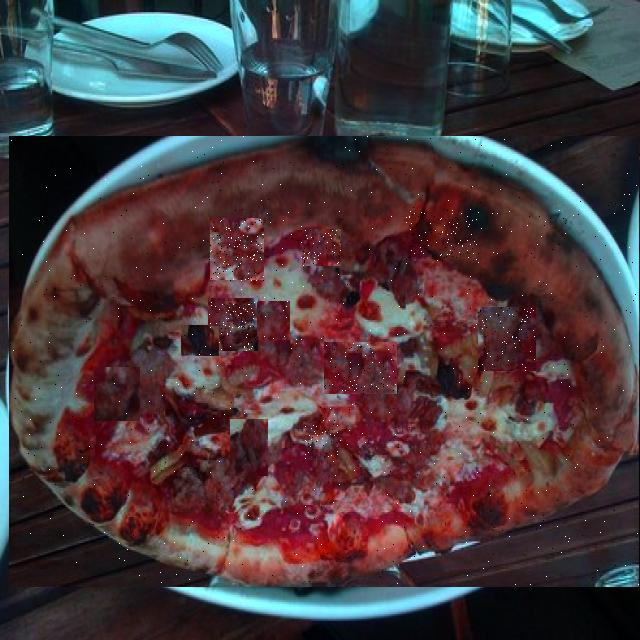Beef: (324, 343, 397, 394), (406, 209, 477, 261), (478, 308, 536, 371), (210, 220, 264, 282), (208, 299, 258, 351), (94, 368, 140, 421), (230, 420, 268, 476), (302, 230, 341, 266), (305, 419, 338, 460), (257, 302, 290, 340), (181, 326, 219, 356)
Pizza: (9, 137, 640, 586)
